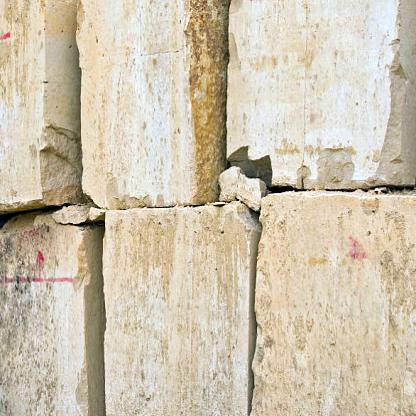Sedimentary_Limestone: (213, 0, 415, 197), (250, 202, 416, 415), (72, 0, 249, 197), (100, 209, 257, 415), (1, 217, 95, 415)
